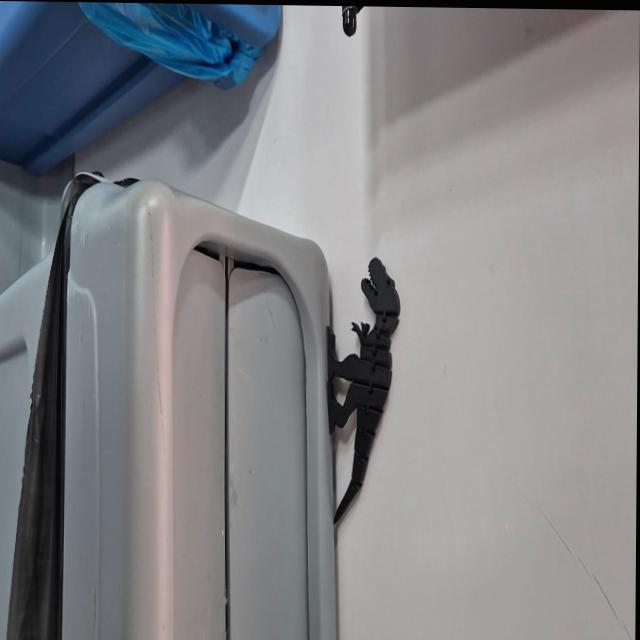dino: (325, 254, 401, 526)
